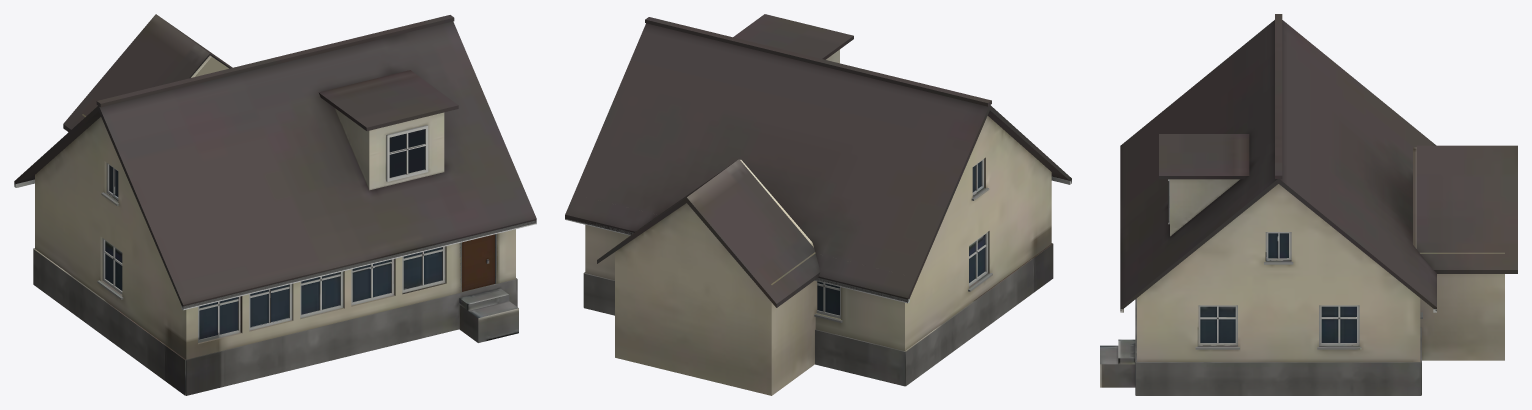
3 views of the same model, side by side, from view 1: azimuth 30°, elevation 25°; view 2: azimuth 150°, elevation 25°; view 3: azimuth 270°, elevation 25° (orthographic). The views are drawn at different scales.
Visible parts, largest first — view 1: building; view 2: building; view 3: building.
Boxes of the visible parts, x1,y1,x2,y2 form: building: (14, 14, 536, 395); building: (565, 14, 1071, 395); building: (1100, 14, 1517, 395).
Bounding box in the file's own units: 10.39 × 6.75 × 11.35.
2 materials, 2 textured.
